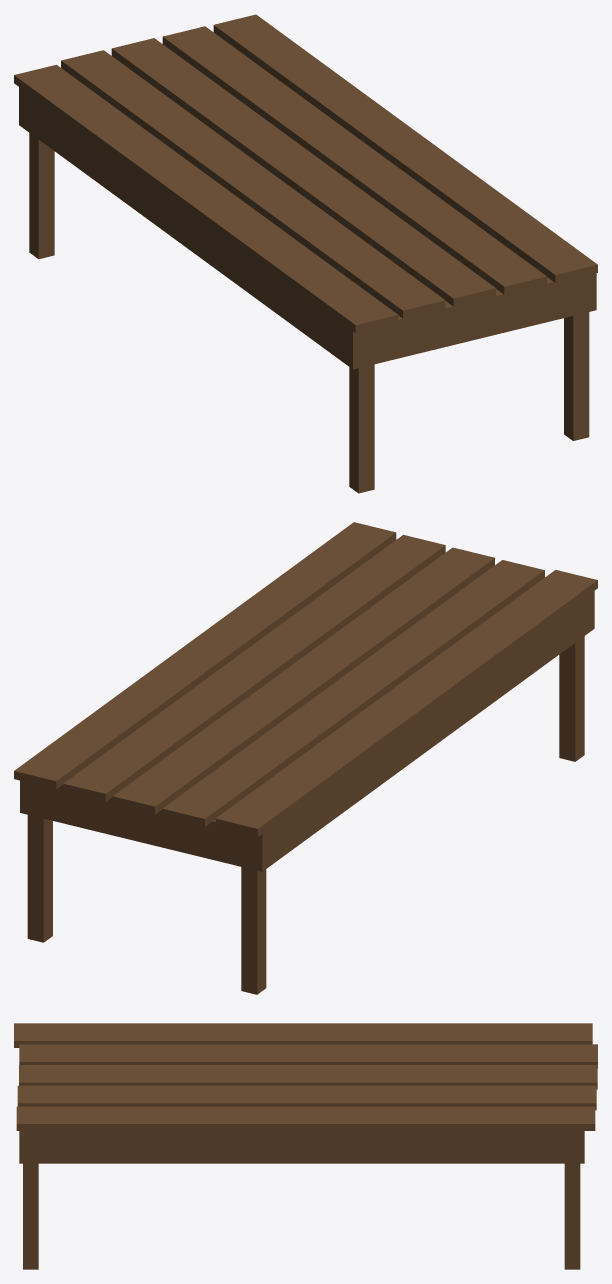
Rendered from Mesa.fbx.
The picture shows the model from 3 angles, top to bottom: view 1: azimuth 30°, elevation 25°; view 2: azimuth 150°, elevation 25°; view 3: azimuth 270°, elevation 25°; orthographic projection. The views are drawn at different scales.
Parts seen in each view (by area): view 1: Mesa; view 2: Mesa; view 3: Mesa.
Part boxes in pixels (x1,y1,x2,y2): Mesa: (14, 14, 597, 493); Mesa: (14, 522, 597, 994); Mesa: (14, 1023, 597, 1269).
Bounding box in the file's own units: 235 × 160 × 575.
